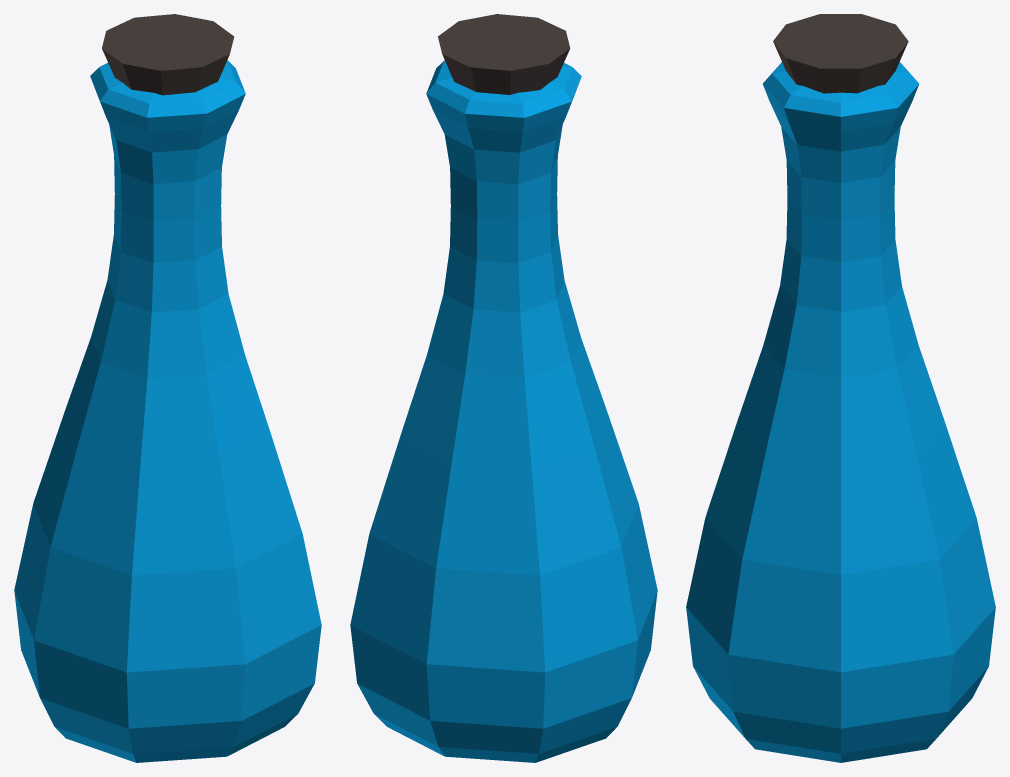
Rendered from Mana_Potion_005.fbx.
The picture shows the model from 3 angles, left to right: view 1: azimuth 30°, elevation 25°; view 2: azimuth 150°, elevation 25°; view 3: azimuth 270°, elevation 25°; orthographic projection.
Parts seen in each view (by area): view 1: Mana Potion.005; view 2: Mana Potion.005; view 3: Mana Potion.005.
Part boxes in pixels (left/top/right/bottom): Mana Potion.005: left=14, top=14, right=321, bottom=762; Mana Potion.005: left=350, top=14, right=657, bottom=762; Mana Potion.005: left=686, top=14, right=995, bottom=762.
Size of the model in its own units: 16.97 by 40.88 by 16.97.
